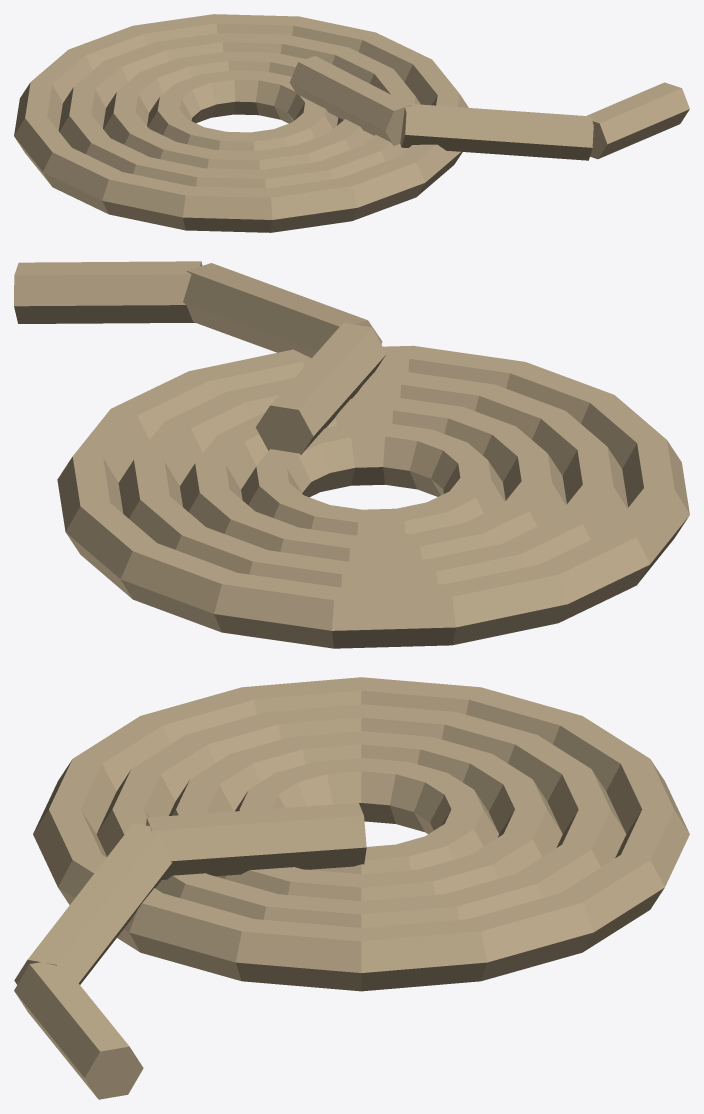
Rendered from PirateCove_RopeCoil_Standard.glb.
3 renders of one model, top to bottom at view 1: azimuth 30°, elevation 25°; view 2: azimuth 150°, elevation 25°; view 3: azimuth 270°, elevation 25°, orthographic. The views are drawn at different scales.
Parts seen in each view (by area): view 1: PirateCove_RopeCoil_Standard; view 2: PirateCove_RopeCoil_Standard; view 3: PirateCove_RopeCoil_Standard.
Boxes of the visible parts, left/top/right/bottom form: PirateCove_RopeCoil_Standard: left=14, top=14, right=689, bottom=232; PirateCove_RopeCoil_Standard: left=14, top=261, right=689, bottom=648; PirateCove_RopeCoil_Standard: left=14, top=677, right=689, bottom=1099.
Bounding box in the file's own units: 1.28 × 0.1479 × 0.9568.
